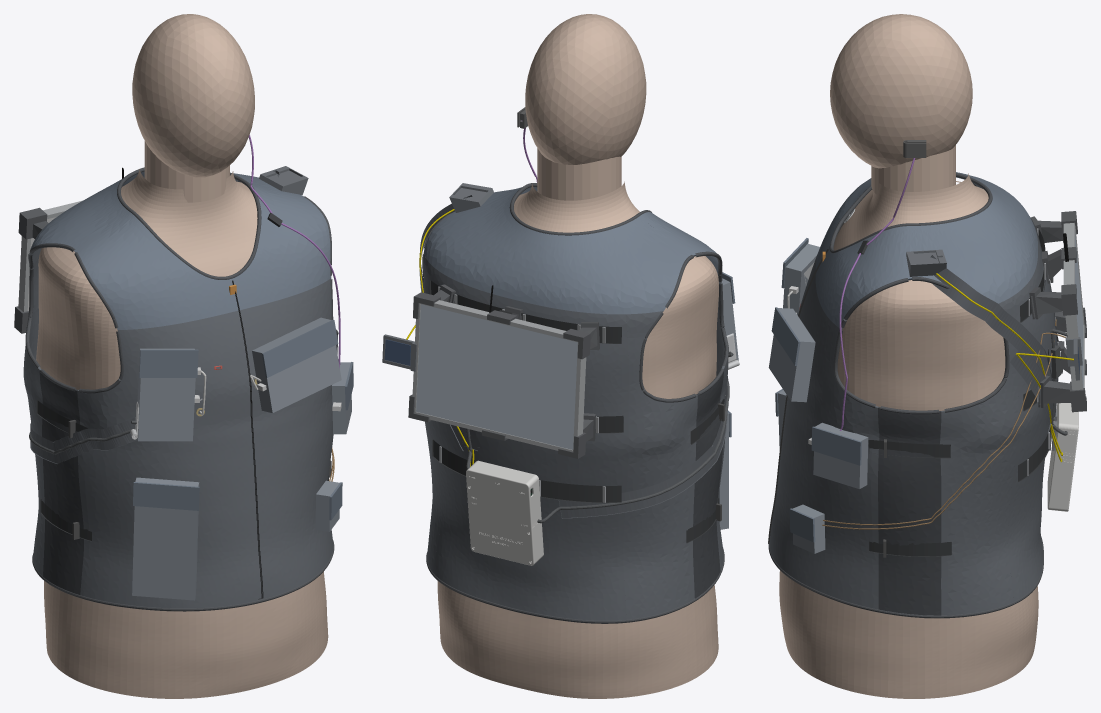
File: assembly_with_torso_PRIVATE.mo.glb
3 renders of one model, left to right at view 1: azimuth 30°, elevation 25°; view 2: azimuth 150°, elevation 25°; view 3: azimuth 270°, elevation 25°, orthographic.
Visible parts, largest first — view 1: torso_PRIVATE, vest/vest_FRONT_R, head_proxy_PRIVATE, vest/vest_FRONT_L, vest/vest_YOKE_FR, vest/vest_YOKE_FL, vest/pocket_phone, vest/vest_SIDE_R, vest/pocket_C_board, vest/pocket_chest_pod, vest/vest_YOKE_B, vest/vest_BACK_SR (+13 smaller); view 2: torso_PRIVATE, vest/vest_BACK_C, vest/vest_YOKE_B, head_proxy_PRIVATE, panel_glass, vest/vest_BACK_SR, back_pod_lid, vest/vest_SIDE_R, panel, vest/tunnel_J6_back_to_chest, vest/webbing_row_C, back_pod_base (+14 smaller); view 3: torso_PRIVATE, head_proxy_PRIVATE, vest/vest_FRONT_L, vest/vest_BACK_SL, vest/vest_SIDE_L, vest/vest_YOKE_B, vest/vest_BACK_C, vest/vest_YOKE_FL, vest/tunnel_ref2, vest/pocket_C_board, back_pod_base, vest/pocket_A_heartbit (+23 smaller).
Part boxes in pixels (x1,y1,x2,y2): torso_PRIVATE: (36, 169, 328, 698); vest/vest_FRONT_R: (77, 311, 260, 608); head_proxy_PRIVATE: (132, 14, 254, 202); vest/vest_FRONT_L: (237, 278, 337, 599); vest/vest_YOKE_FR: (75, 212, 236, 329); vest/vest_YOKE_FL: (230, 184, 331, 310); vest/pocket_phone: (132, 477, 199, 600); vest/vest_SIDE_R: (39, 370, 83, 594); vest/pocket_C_board: (252, 317, 341, 413); vest/pocket_chest_pod: (137, 348, 195, 441); vest/vest_YOKE_B: (30, 171, 302, 251); vest/vest_BACK_SR: (23, 249, 44, 576); torso_PRIVATE: (437, 181, 718, 698); vest/vest_BACK_C: (429, 267, 628, 620); vest/vest_YOKE_B: (424, 189, 693, 314); head_proxy_PRIVATE: (525, 14, 646, 200); panel_glass: (416, 304, 577, 449); vest/vest_BACK_SR: (623, 311, 697, 619); back_pod_lid: (466, 469, 537, 565); vest/vest_SIDE_R: (693, 369, 723, 598); panel: (412, 285, 586, 451); vest/tunnel_J6_back_to_chest: (558, 376, 728, 518); vest/webbing_row_C: (432, 439, 621, 502); back_pod_base: (468, 460, 543, 563); torso_PRIVATE: (779, 173, 1038, 698); head_proxy_PRIVATE: (830, 14, 972, 194); vest/vest_FRONT_L: (769, 275, 879, 609); vest/vest_BACK_SL: (940, 296, 1019, 615); vest/vest_SIDE_L: (878, 407, 941, 615); vest/vest_YOKE_B: (910, 172, 1037, 303); vest/vest_BACK_C: (1007, 233, 1054, 601); vest/vest_YOKE_FL: (815, 226, 909, 328); vest/tunnel_ref2: (930, 255, 1052, 380); vest/pocket_C_board: (768, 308, 815, 402); back_pod_base: (1047, 403, 1077, 511); vest/pocket_A_heartbit: (813, 422, 868, 489).
Bounding box in the file's own units: 0.4313 × 0.94 × 0.4372.
